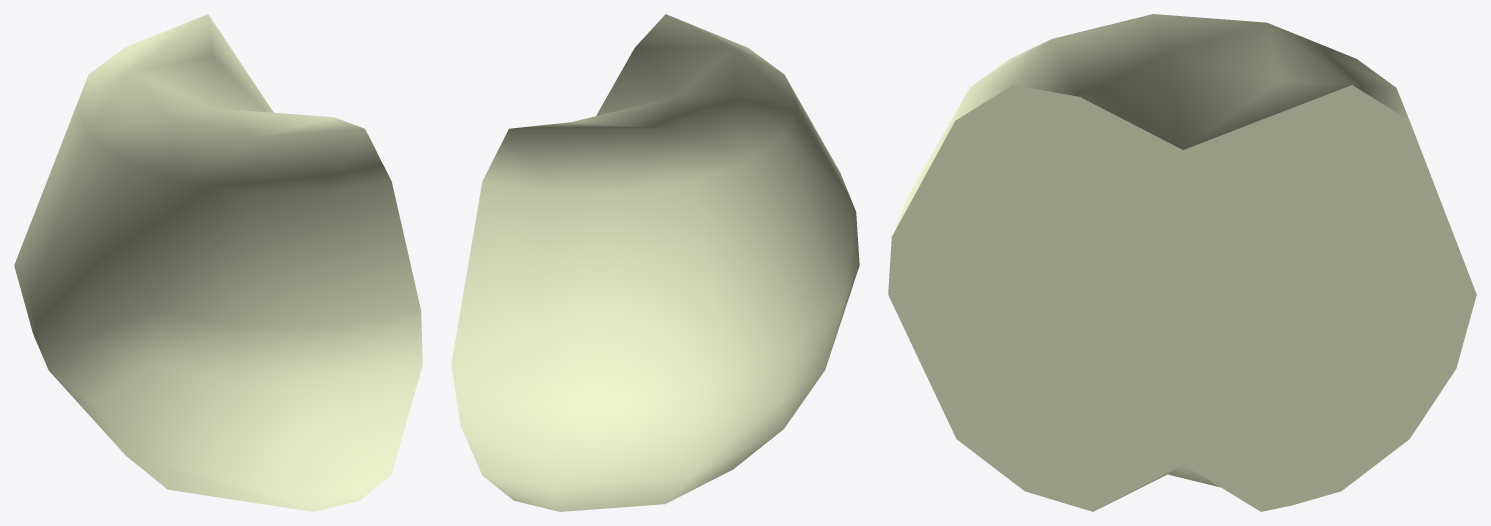
Rendered from FP_apple_half.FBX.
The picture shows the model from 3 angles, left to right: view 1: azimuth 30°, elevation 25°; view 2: azimuth 150°, elevation 25°; view 3: azimuth 270°, elevation 25°; orthographic projection. The views are drawn at different scales.
Visible parts, largest first — view 1: FP_apple_half; view 2: FP_apple_half; view 3: FP_apple_half.
Part boxes in pixels (bbox=[...]): FP_apple_half: bbox=[14, 14, 422, 511]; FP_apple_half: bbox=[451, 14, 859, 511]; FP_apple_half: bbox=[888, 14, 1476, 511].
Bounding box in the file's own units: 2.42 × 3.93 × 4.91.
